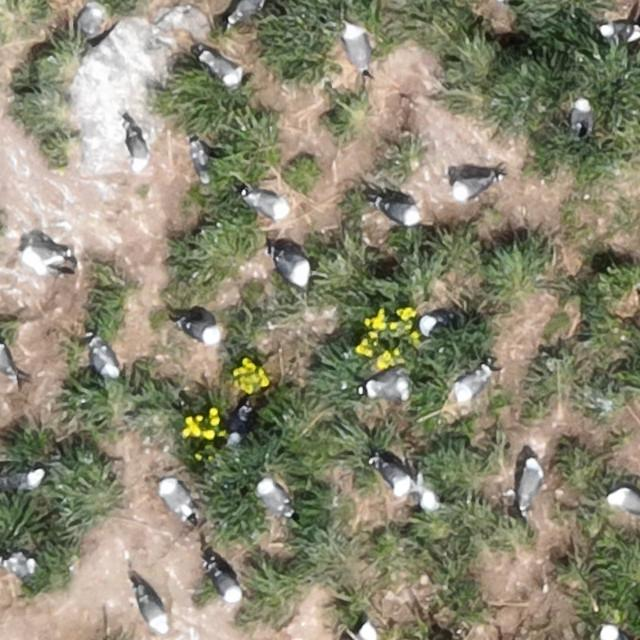umineko: (20, 239, 72, 279), (454, 367, 497, 404), (160, 482, 191, 519), (517, 460, 541, 505), (278, 254, 312, 285), (379, 461, 411, 492), (258, 482, 288, 515), (365, 375, 408, 398), (213, 568, 242, 602), (248, 193, 289, 217), (206, 54, 241, 82), (344, 30, 368, 70), (72, 10, 101, 43), (382, 200, 421, 224), (138, 594, 164, 630), (91, 346, 118, 378), (182, 320, 218, 343), (455, 178, 492, 198), (229, 407, 249, 442), (610, 490, 640, 513), (6, 469, 40, 489), (7, 555, 36, 577), (230, 1, 260, 22), (131, 134, 149, 168), (572, 99, 590, 132), (420, 313, 449, 333), (600, 22, 630, 40), (420, 488, 439, 511), (0, 343, 12, 373)
